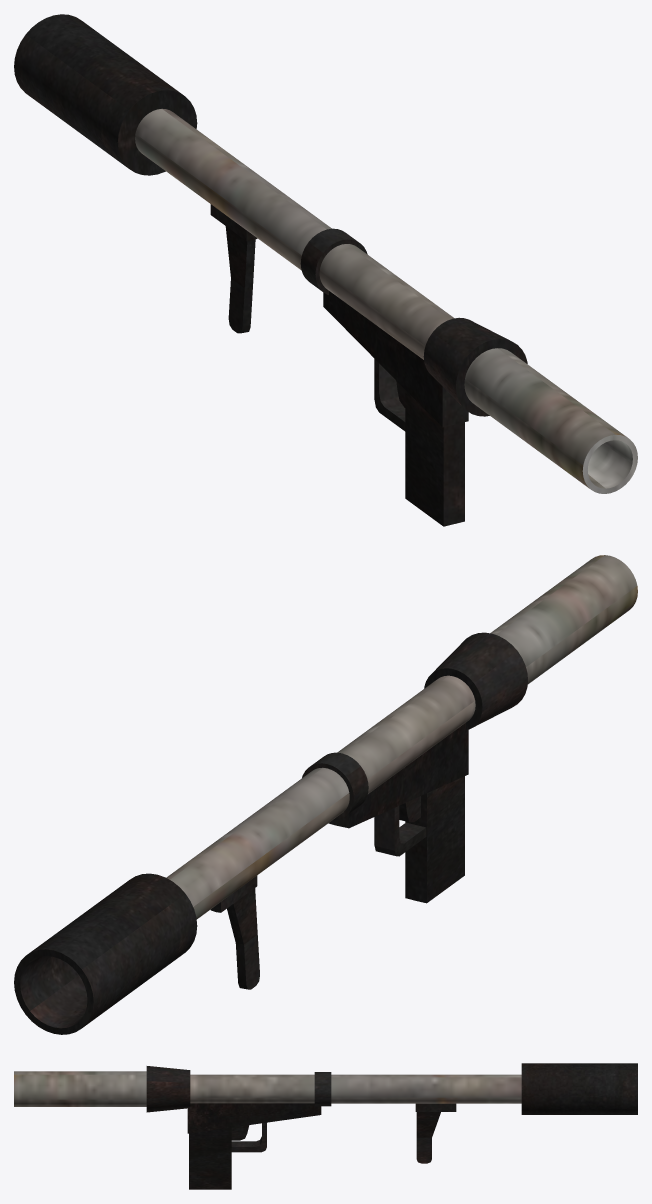
File: FlameThrower.fbx
3 renders of one model, top to bottom at view 1: azimuth 30°, elevation 25°; view 2: azimuth 150°, elevation 25°; view 3: azimuth 270°, elevation 25°, orthographic. The views are drawn at different scales.
Parts seen in each view (by area): view 1: FlameThrower; view 2: FlameThrower; view 3: FlameThrower.
Part boxes in pixels (x1,y1,x2,y2): FlameThrower: [14, 14, 637, 526]; FlameThrower: [14, 555, 637, 1034]; FlameThrower: [14, 1063, 637, 1189].
Bounding box in the file's own units: 113 × 294 × 1374.
